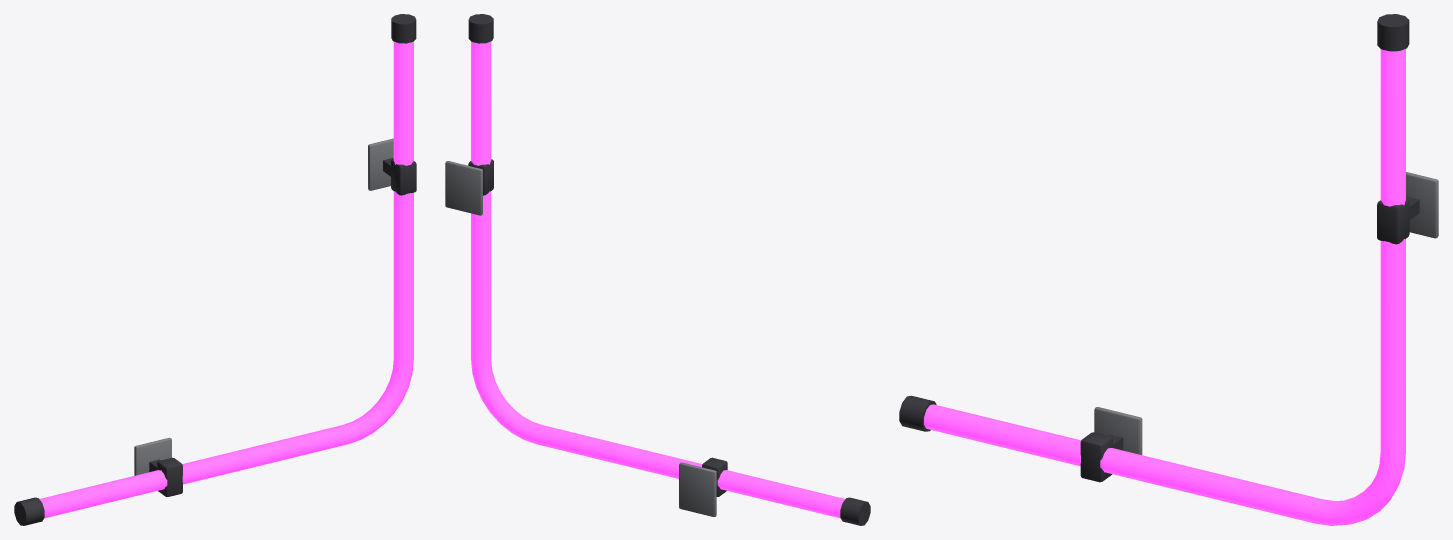
The model's file is KIT_Neon_Canto_Rosa.glb.
3 views of the same model, side by side, from view 1: azimuth 30°, elevation 25°; view 2: azimuth 150°, elevation 25°; view 3: azimuth 330°, elevation 25° (orthographic). The views are drawn at different scales.
Parts seen in each view (by area): view 1: KIT_Neon_Canto_Rosa; view 2: KIT_Neon_Canto_Rosa; view 3: KIT_Neon_Canto_Rosa.
Part boxes in pixels (x1=…): KIT_Neon_Canto_Rosa: x1=14, y1=14, x2=416, y2=525; KIT_Neon_Canto_Rosa: x1=445, y1=14, x2=870, y2=525; KIT_Neon_Canto_Rosa: x1=899, y1=14, x2=1438, y2=525.
Size of the model in its own units: 0.55 by 0.555 by 0.0573.
